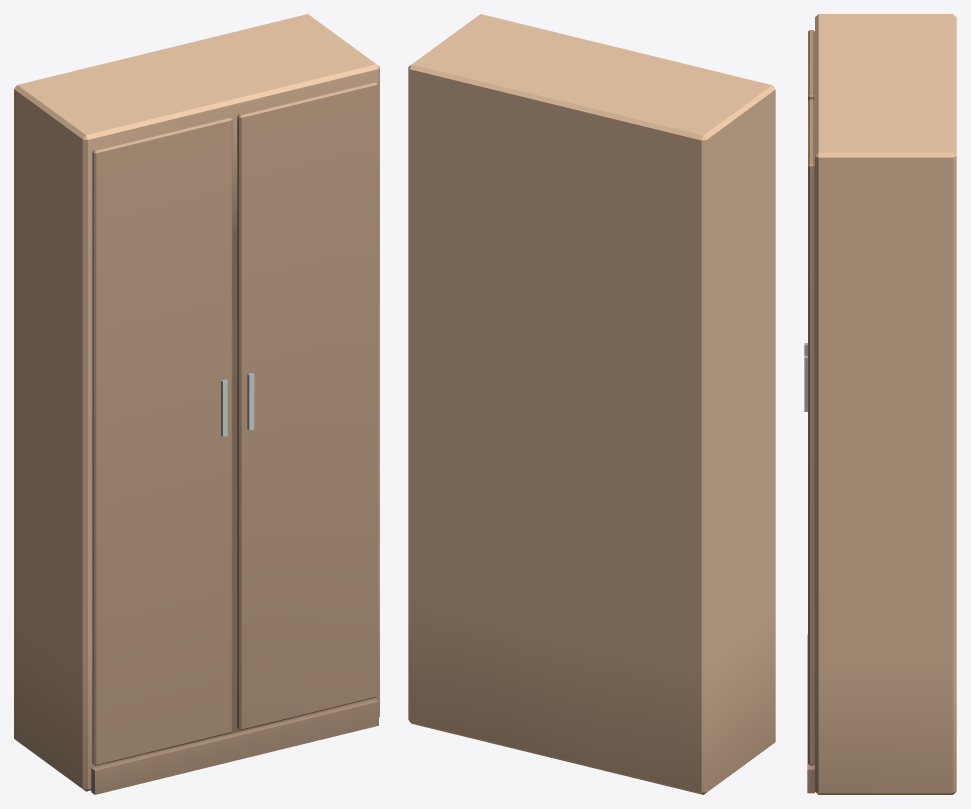
File: bookcase.glb
The picture shows the model from 3 angles, left to right: view 1: azimuth 30°, elevation 25°; view 2: azimuth 150°, elevation 25°; view 3: azimuth 270°, elevation 25°; orthographic projection. The views are drawn at different scales.
Parts seen in each view (by area): view 1: door, body, plinth, pulls; view 2: body; view 3: body, door, plinth.
Part boxes in pixels (left/top/right/bottom): door: left=92, top=81, right=377, bottom=765; body: left=14, top=14, right=379, bottom=791; plinth: left=91, top=699, right=378, bottom=794; pulls: left=221, top=373, right=254, bottom=436; body: left=408, top=14, right=775, bottom=794; body: left=815, top=14, right=956, bottom=794; door: left=808, top=30, right=814, bottom=765; plinth: left=807, top=634, right=814, bottom=793.
Size of the model in its own units: 0.9 by 1.9 by 0.408.
